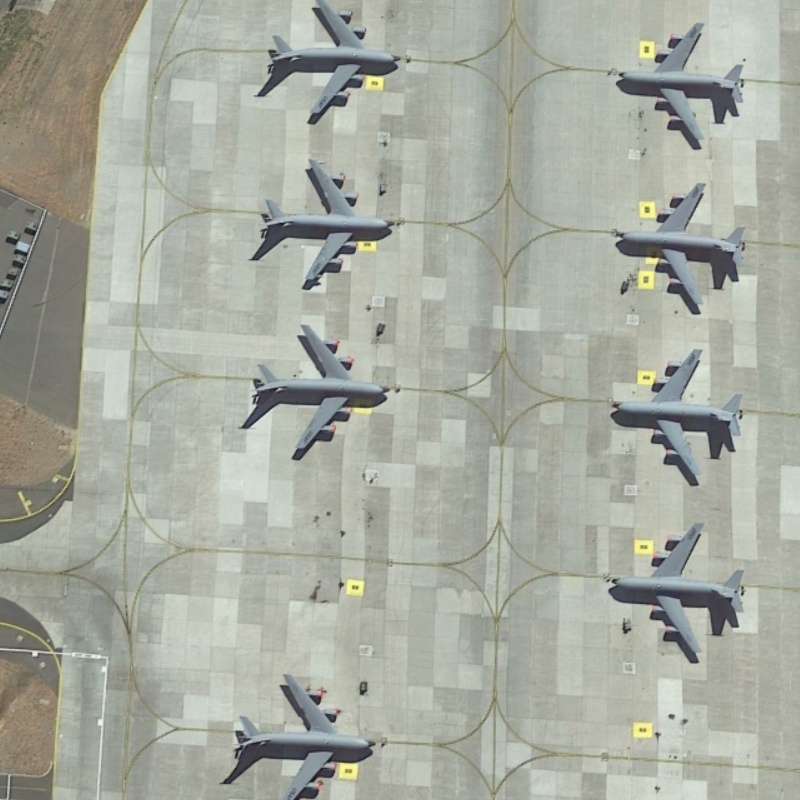A14: (243, 316, 396, 459), (614, 174, 761, 316), (226, 666, 381, 800), (609, 341, 752, 484), (258, 148, 399, 293), (604, 523, 750, 663), (610, 18, 756, 153), (261, 1, 404, 124)
